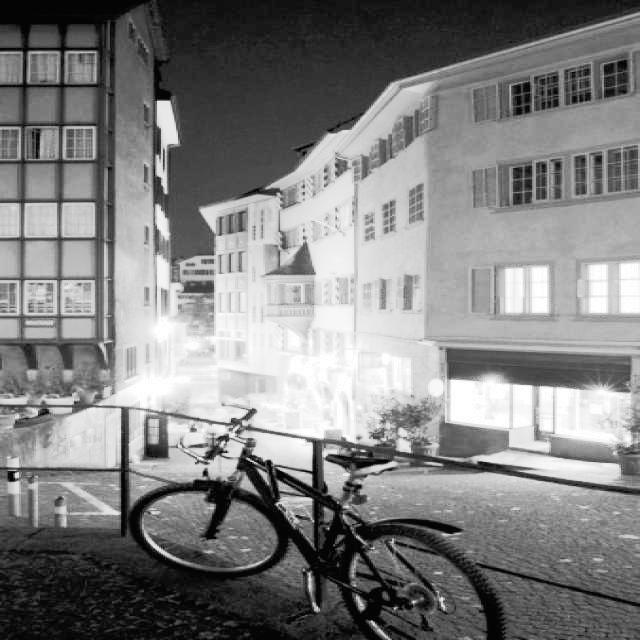Bicycle: (106, 404, 571, 640)
